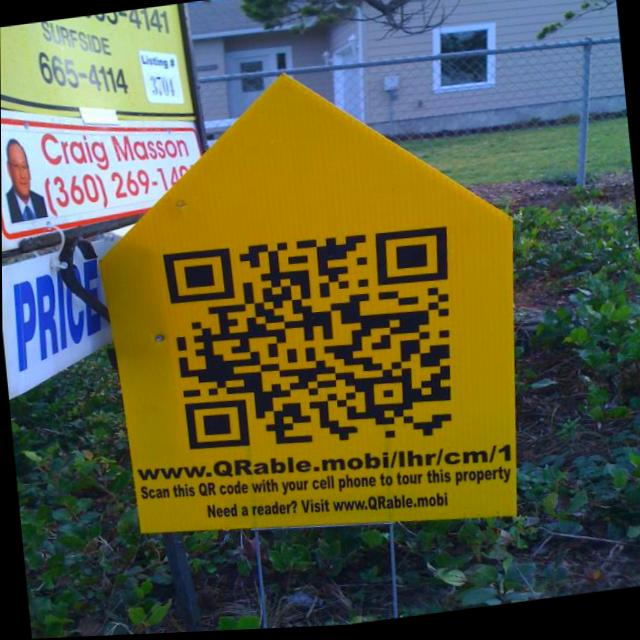qrcode: (163, 222, 465, 471)
